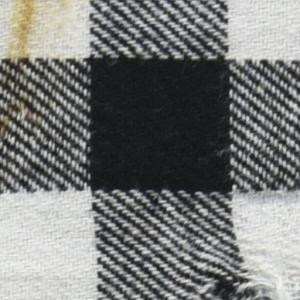Damage: (188, 251, 300, 300)
Oil Stain: (1, 1, 75, 187)
